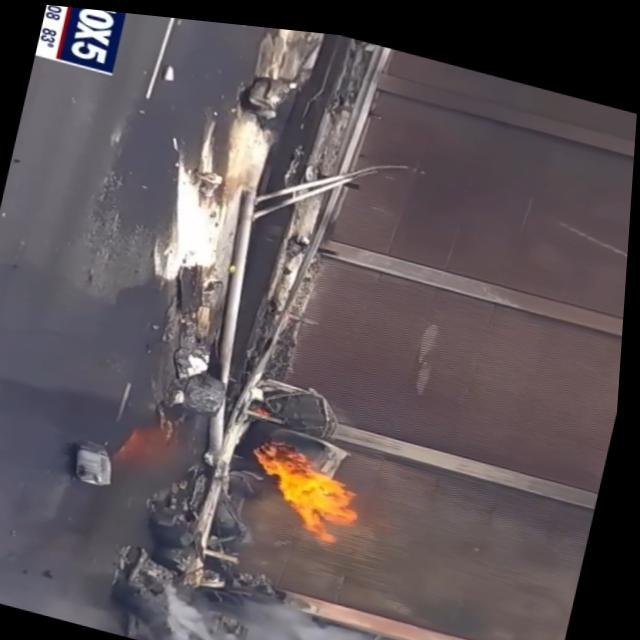Fire: (245, 434, 379, 538)
